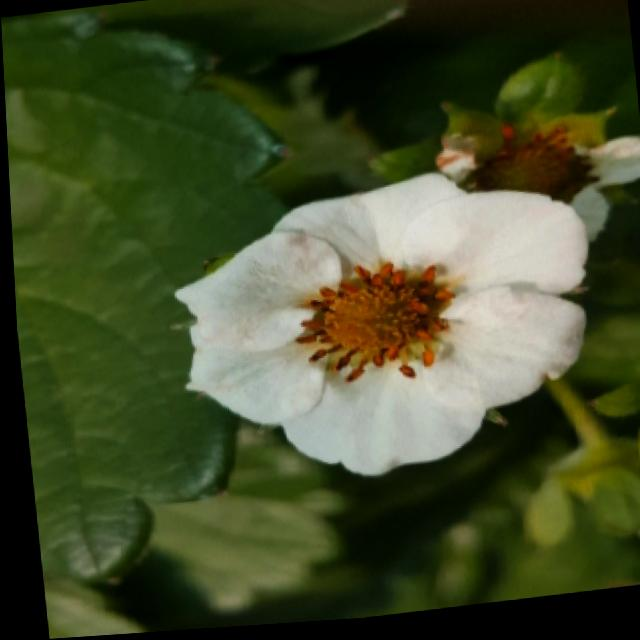Blossom Blight: (288, 259, 458, 392)
